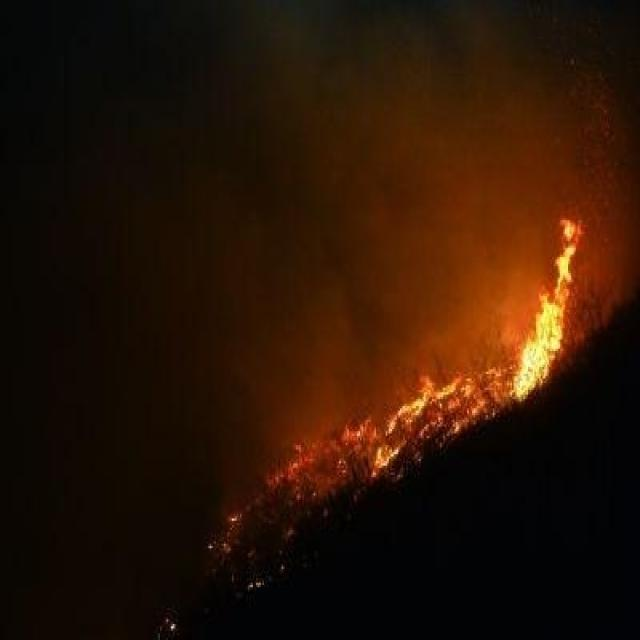Fire: (194, 426, 376, 561), (366, 364, 503, 484), (516, 216, 580, 400)
Smoke: (259, 0, 640, 209), (227, 222, 520, 370)
